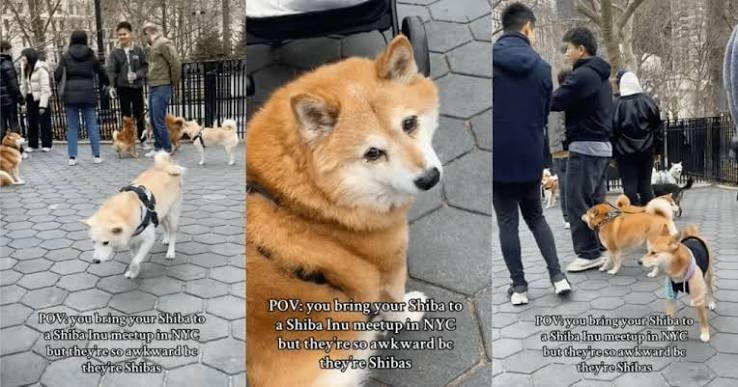adult_dog: (245, 34, 444, 385), (83, 166, 184, 279), (644, 225, 716, 343), (581, 194, 682, 277), (649, 163, 694, 215), (196, 119, 239, 166), (164, 114, 207, 151), (0, 132, 29, 186), (111, 120, 142, 159), (540, 168, 560, 209)
